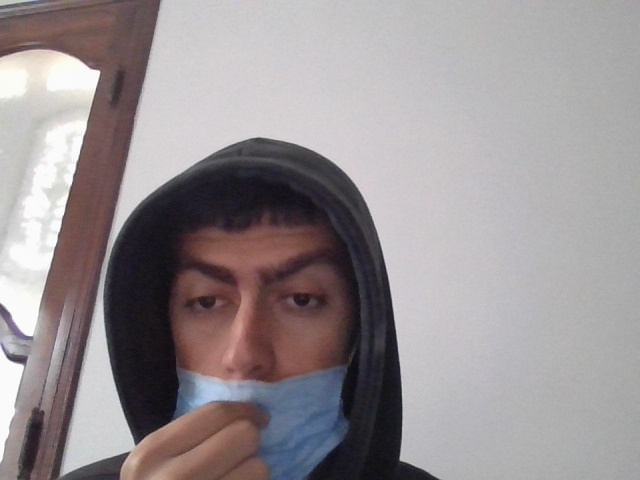mask_weared_incorrect: (143, 198, 352, 480)
